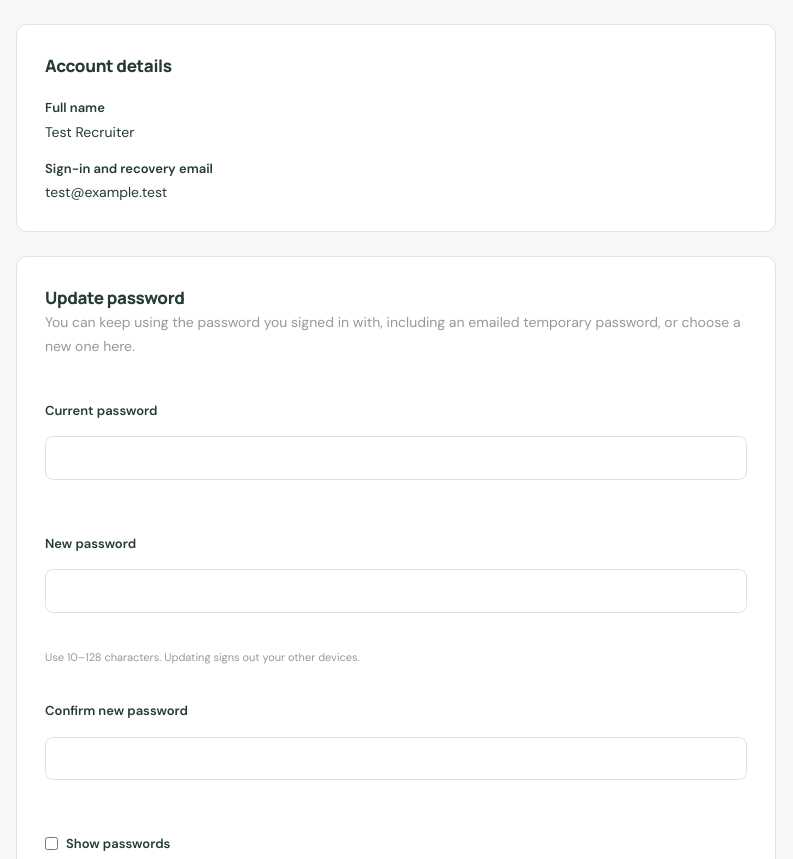
changes the password and clears sensitive fields
In the password field labelled "Current password": (396, 458) [45,436,747,480], type "Emailed-test-password"
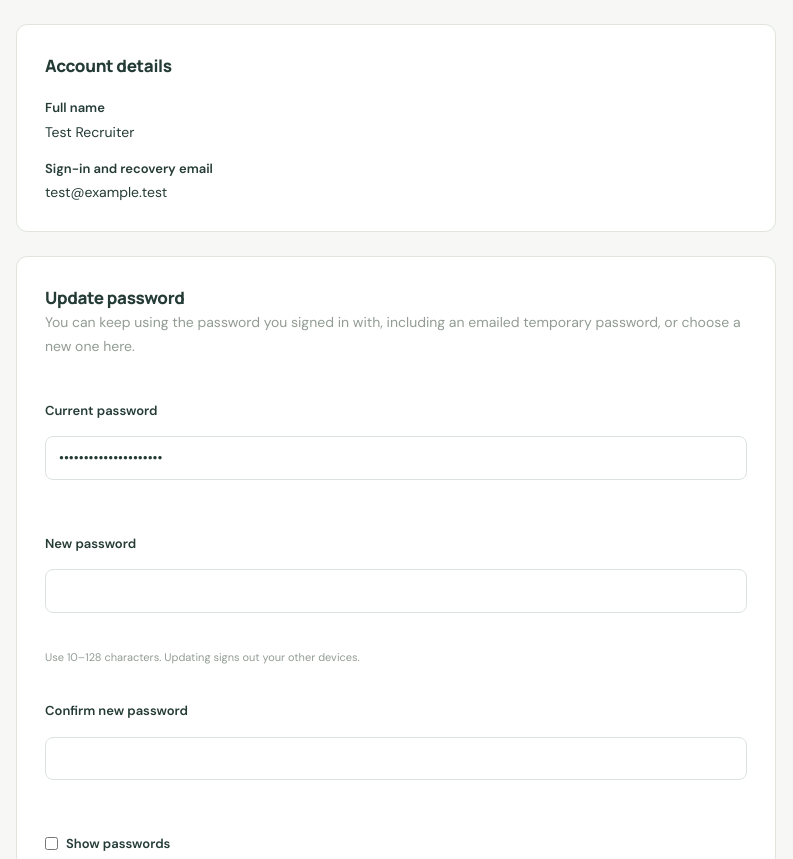
In the password field labelled "New password": (396, 591) [45,569,747,612], type "New-test-password-2026"
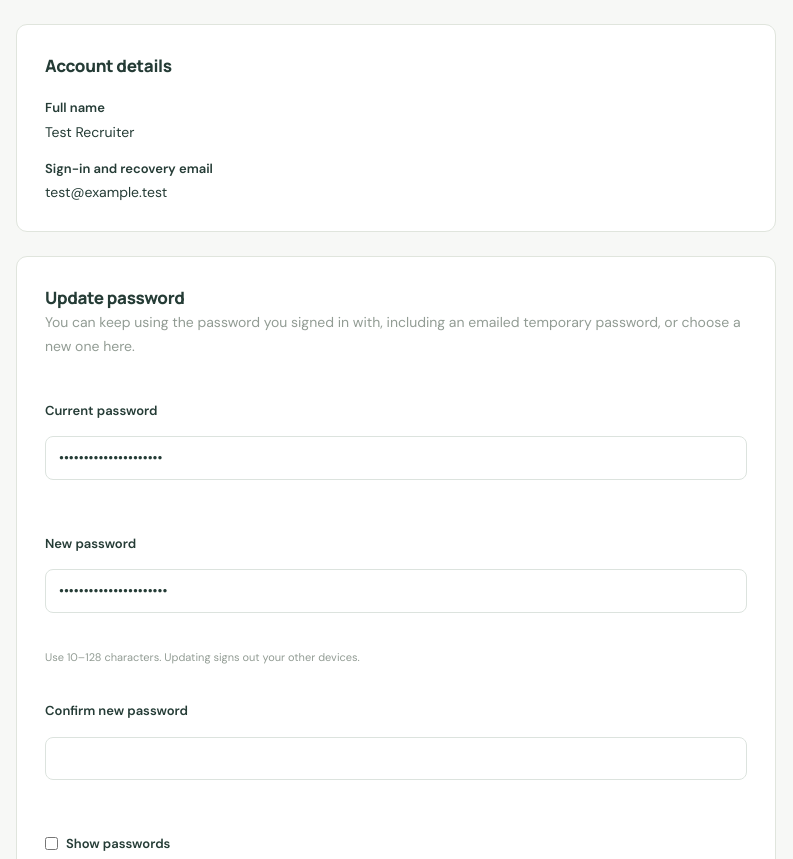
In the password field labelled "Confirm new password": (396, 758) [45,736,747,780], type "New-test-password-2026"
(page scrolled)
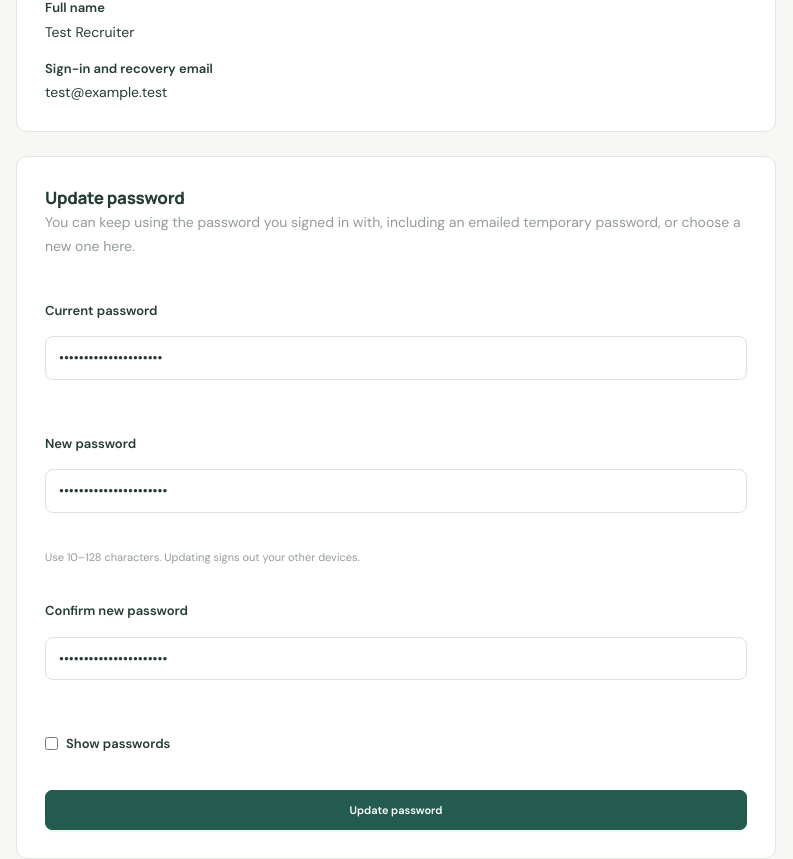
Click the button "Update password": (396, 810) [45,790,747,830]
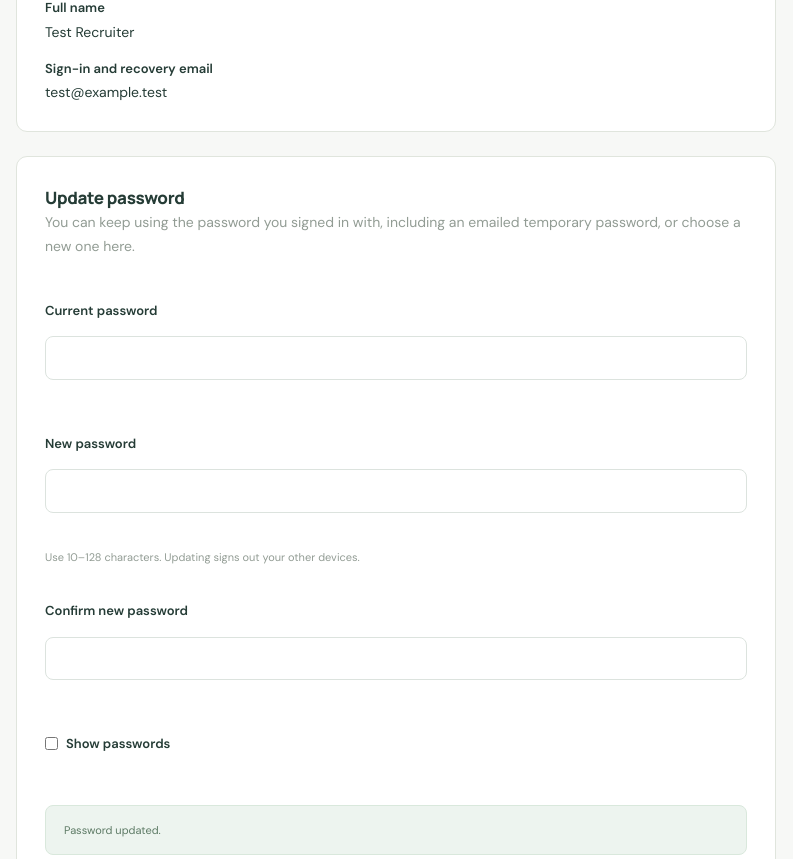
Now the message shows "Password updated", box [64,822,161,836]
Now the password field labelled "Current password" is empty, box [45,336,747,380]
